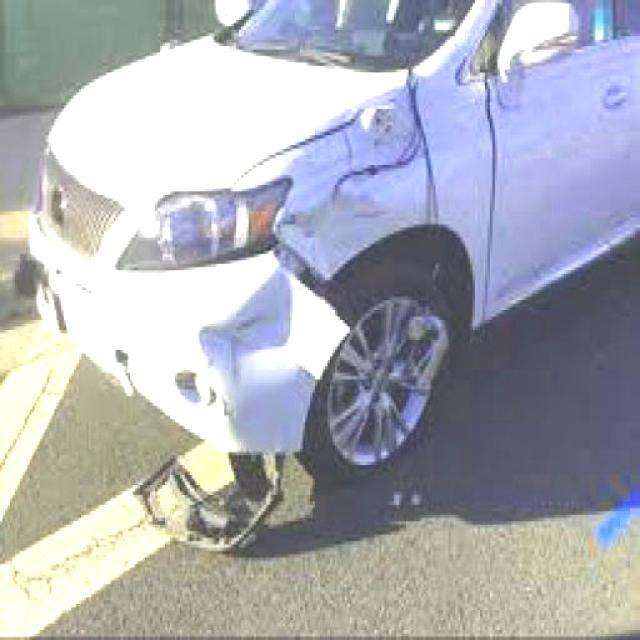car damage: (194, 66, 458, 467)
